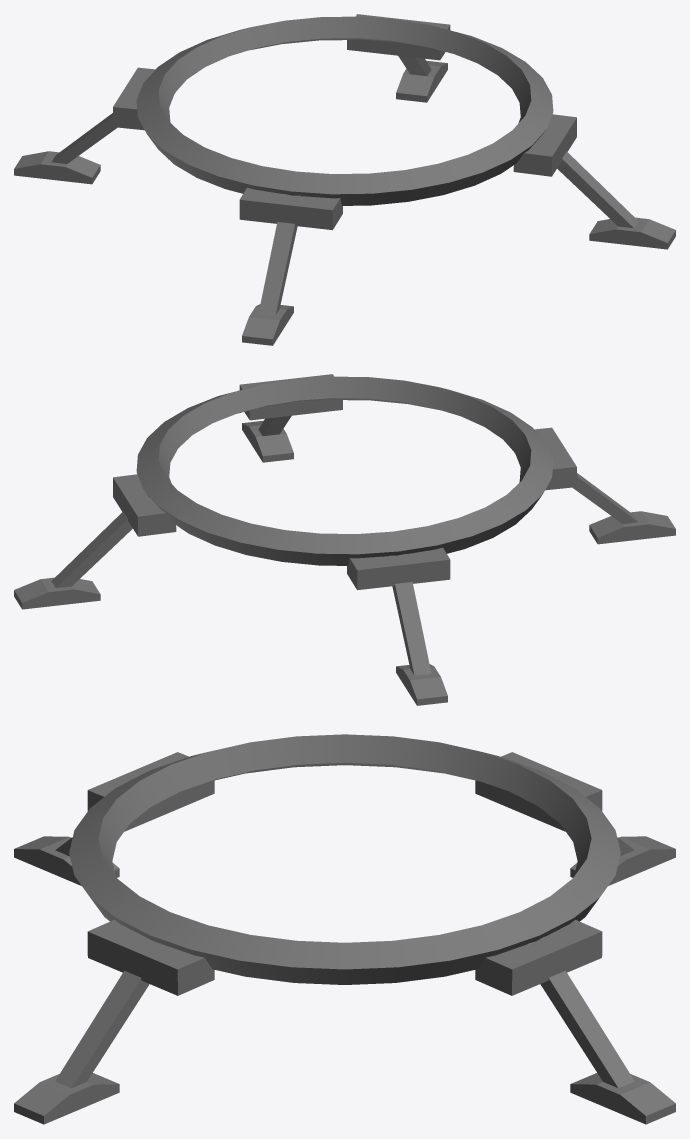
File: RingBomb.glb
The picture shows the model from 3 angles, top to bottom: view 1: azimuth 30°, elevation 25°; view 2: azimuth 150°, elevation 25°; view 3: azimuth 270°, elevation 25°; orthographic projection. The views are drawn at different scales.
Visible parts, largest first — view 1: House_Single_Support; view 2: House_Single_Support; view 3: House_Single_Support.
Boxes of the visible parts, x1,y1,x2,y2 form: House_Single_Support: [14, 14, 675, 345]; House_Single_Support: [14, 374, 675, 705]; House_Single_Support: [14, 734, 675, 1124].
Size of the model in its own units: 3.58 by 0.8721 by 3.58.
Materials: 1 (1 with a texture image).
